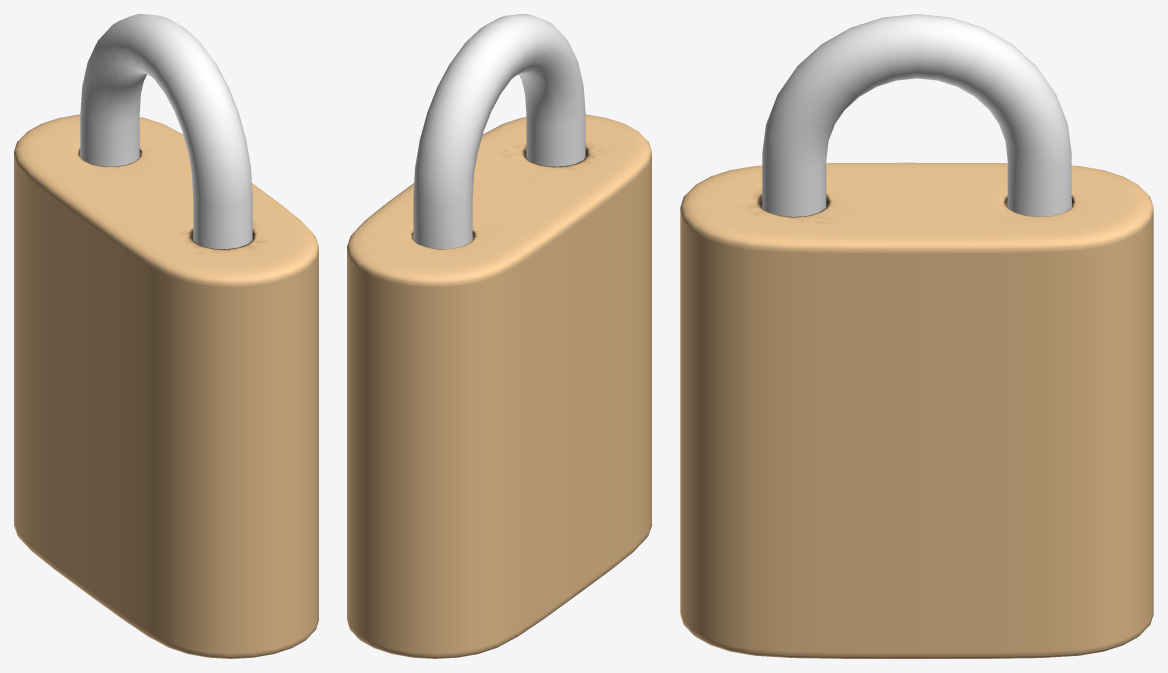
File: lock.glb
3 views of the same model, side by side, from view 1: azimuth 30°, elevation 25°; view 2: azimuth 150°, elevation 25°; view 3: azimuth 270°, elevation 25° (orthographic). The views are drawn at different scales.
Parts seen in each view (by area): view 1: Cube, Cube.001; view 2: Cube, Cube.001; view 3: Cube, Cube.001.
Part boxes in pixels (x1,y1,x2,y2): Cube: (14, 114, 318, 658); Cube.001: (80, 14, 252, 249); Cube: (347, 114, 651, 658); Cube.001: (413, 14, 585, 249); Cube: (680, 162, 1153, 658); Cube.001: (762, 14, 1071, 216).
Size of the model in its own units: 0.8669 by 2.88 by 2.05.
1 material, 1 textured.
